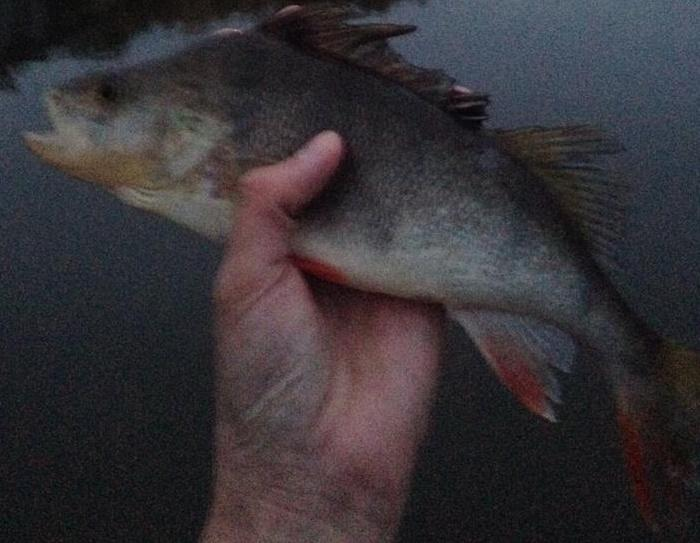Perch: (22, 0, 700, 537)
